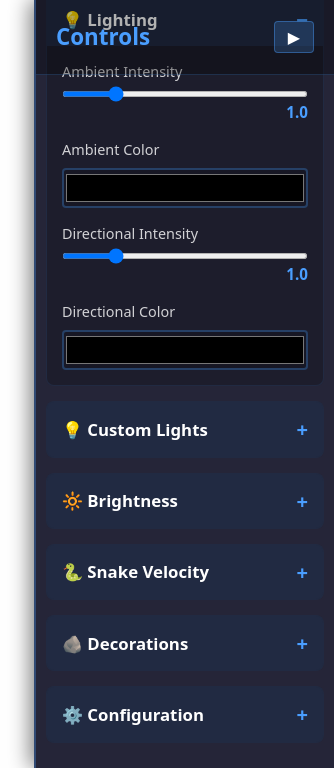
Test: Manual Configuration Save › ControlPanel Save Button › displays correct info text about manual save
The image size is (334, 768).
(page scrolled)
Click the text "⚙️ Configuration" at point(133, 714), box [62,702,204,727]
(page scrolled)
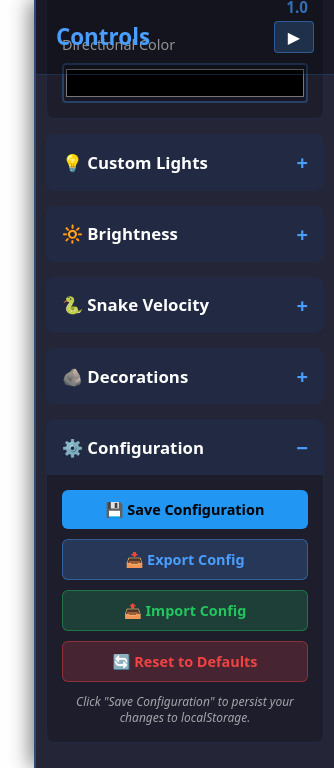
Now the button "💾 Save Configuration" is shown, box [62,490,308,528]
Now the text "Click \"Save Configuration\" to persist your changes to localStorage" is shown, box [76,692,294,726]
